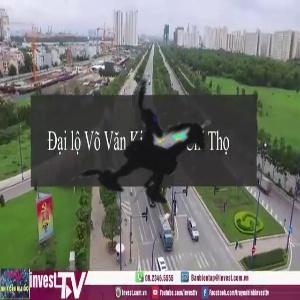drone: (27, 36, 285, 294)
